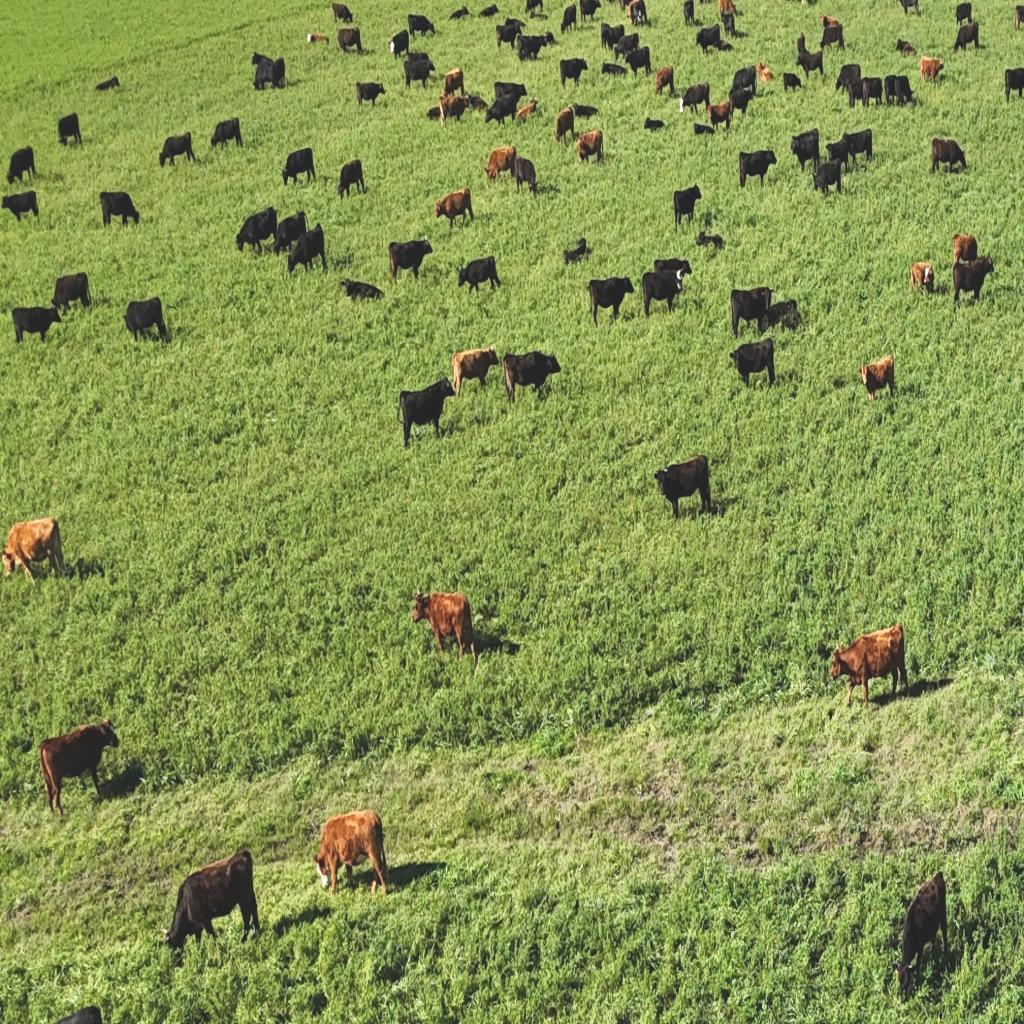cow: (160, 848, 260, 956), (36, 719, 118, 820), (832, 623, 910, 709), (898, 873, 950, 999), (318, 810, 388, 896), (410, 588, 476, 668), (1, 517, 67, 583), (398, 376, 456, 446), (654, 454, 714, 518), (503, 350, 559, 404), (452, 346, 500, 396), (730, 337, 776, 389), (588, 275, 634, 327), (641, 266, 687, 318), (952, 256, 995, 311), (10, 304, 63, 346), (122, 296, 168, 344), (236, 206, 278, 258), (730, 286, 772, 338), (288, 223, 326, 277), (389, 238, 433, 282), (860, 354, 896, 404), (458, 256, 501, 296), (52, 272, 92, 314), (273, 208, 307, 256), (100, 190, 140, 230), (436, 187, 474, 229), (739, 148, 777, 188), (760, 300, 800, 334), (282, 146, 316, 186), (35, 1004, 103, 1024), (674, 184, 702, 232), (931, 138, 968, 174), (790, 128, 820, 172), (160, 132, 196, 168), (252, 54, 286, 91), (0, 191, 39, 223), (843, 128, 873, 168), (5, 146, 36, 184), (337, 158, 365, 200), (813, 159, 843, 197), (486, 146, 516, 184), (824, 134, 852, 174), (486, 94, 518, 129), (512, 154, 538, 196), (211, 118, 242, 152), (342, 278, 382, 304), (518, 32, 550, 64), (404, 56, 434, 90), (884, 74, 914, 108), (836, 62, 862, 100), (57, 112, 83, 148), (952, 232, 978, 268), (577, 129, 603, 165), (707, 98, 733, 134), (911, 258, 936, 294), (796, 48, 824, 80), (680, 83, 708, 115), (440, 94, 468, 126), (954, 20, 980, 54), (624, 46, 650, 80), (731, 64, 757, 98), (553, 106, 575, 146), (495, 81, 528, 107), (560, 58, 588, 88), (858, 77, 884, 109), (496, 20, 522, 52), (732, 86, 756, 120), (357, 80, 385, 109), (696, 24, 722, 54), (613, 32, 639, 62), (1004, 66, 1024, 104), (659, 258, 693, 280), (442, 66, 465, 98), (562, 240, 590, 266), (337, 26, 363, 54), (408, 14, 436, 40), (820, 22, 844, 52), (920, 56, 944, 86), (388, 28, 410, 59), (600, 21, 622, 51), (654, 65, 674, 97), (696, 230, 724, 252), (516, 97, 538, 122), (628, 0, 648, 26), (332, 1, 354, 24), (580, 0, 602, 23), (955, 1, 973, 27), (465, 94, 488, 114), (95, 74, 120, 92), (561, 6, 577, 34), (896, 38, 918, 58), (782, 71, 802, 93), (756, 60, 774, 84), (504, 17, 526, 36), (601, 62, 627, 78), (572, 104, 598, 120), (252, 50, 272, 70), (897, 0, 920, 17), (722, 12, 736, 38), (526, 0, 546, 18), (693, 122, 715, 138), (448, 5, 470, 21), (820, 14, 842, 30), (644, 116, 664, 132), (478, 3, 498, 19), (683, 0, 695, 26), (307, 32, 329, 46), (1013, 4, 1024, 32), (718, 0, 736, 17), (796, 32, 806, 56), (718, 40, 734, 54), (110, 74, 120, 86)
